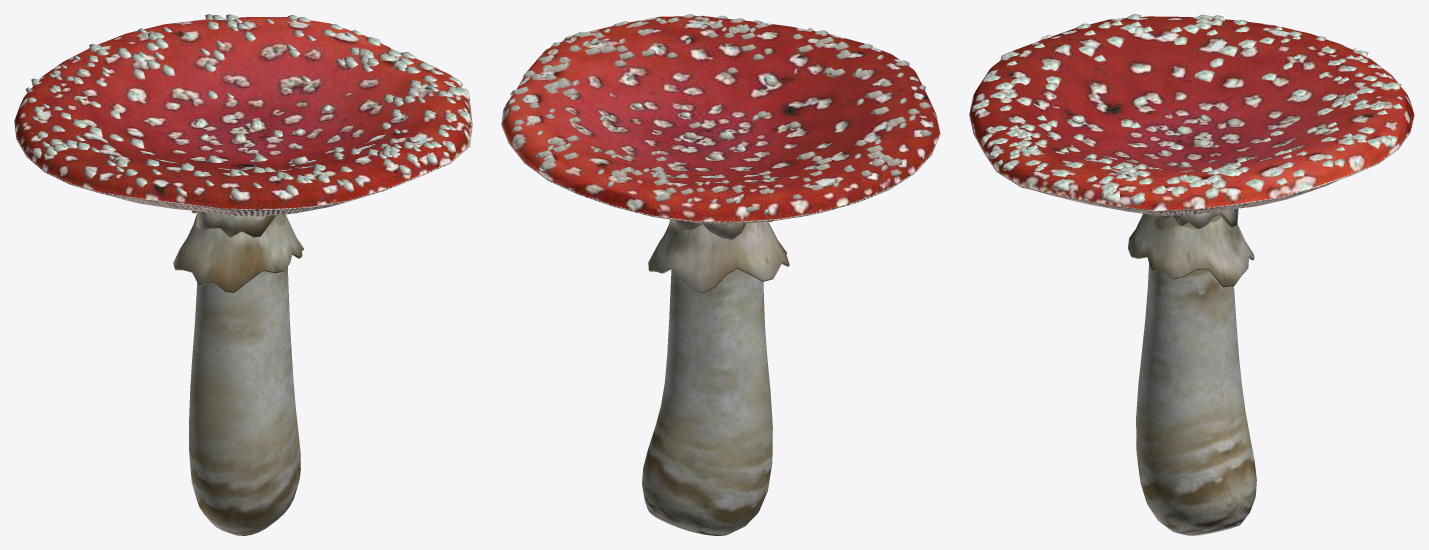
The model's file is preview.glb.
3 renders of one model, left to right at view 1: azimuth 30°, elevation 25°; view 2: azimuth 150°, elevation 25°; view 3: azimuth 270°, elevation 25°, orthographic.
Parts seen in each view (by area): view 1: Mushroom_Amanita_muscaria_A_Body_glb; view 2: Mushroom_Amanita_muscaria_A_Body_glb; view 3: Mushroom_Amanita_muscaria_A_Body_glb.
Boxes of the visible parts, x1,y1,x2,y2 form: Mushroom_Amanita_muscaria_A_Body_glb: [14, 14, 472, 535]; Mushroom_Amanita_muscaria_A_Body_glb: [501, 14, 940, 535]; Mushroom_Amanita_muscaria_A_Body_glb: [969, 14, 1414, 535].
Size of the model in its own units: 0.1108 by 0.117 by 0.1082.
Materials: 1 (1 with a texture image).
